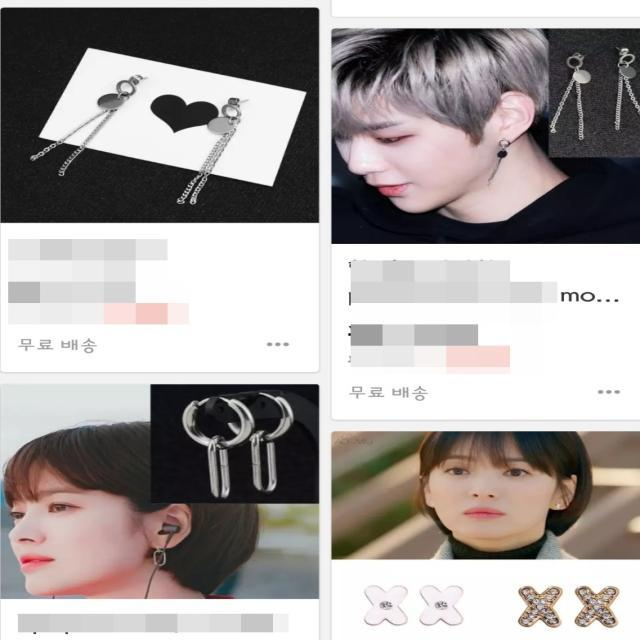earphone: (174, 369, 305, 520), (140, 507, 194, 552)
